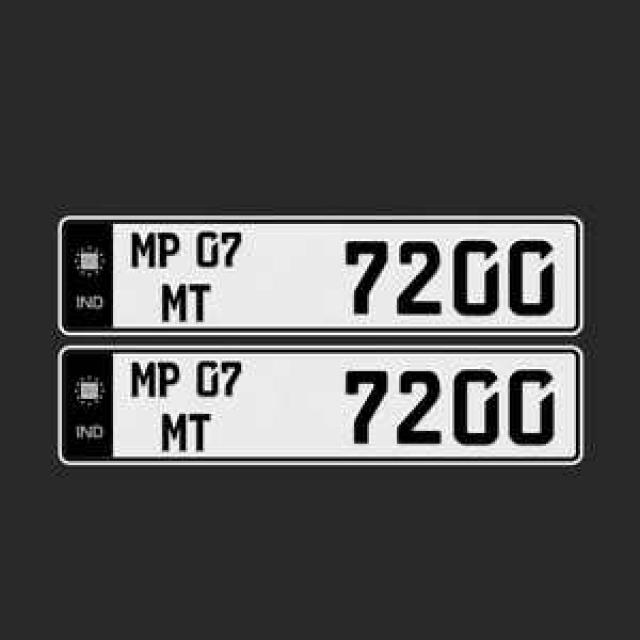plate: (60, 209, 580, 339), (60, 348, 582, 463)
